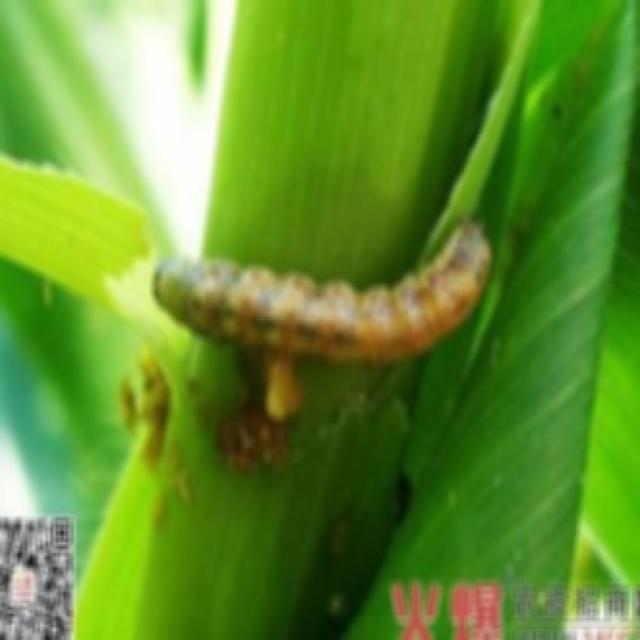army worm: (147, 221, 503, 360)
